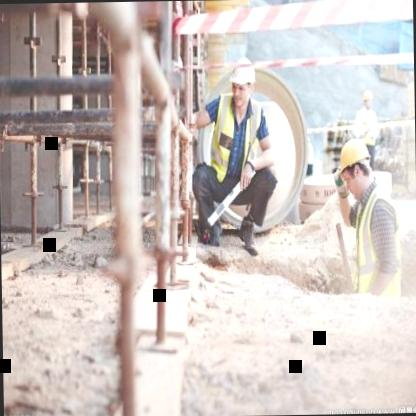helmet: (334, 134, 374, 202), (228, 54, 258, 106), (359, 84, 375, 110)
